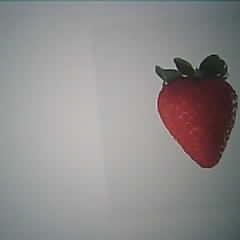straw-ripe: (158, 76, 238, 170)
